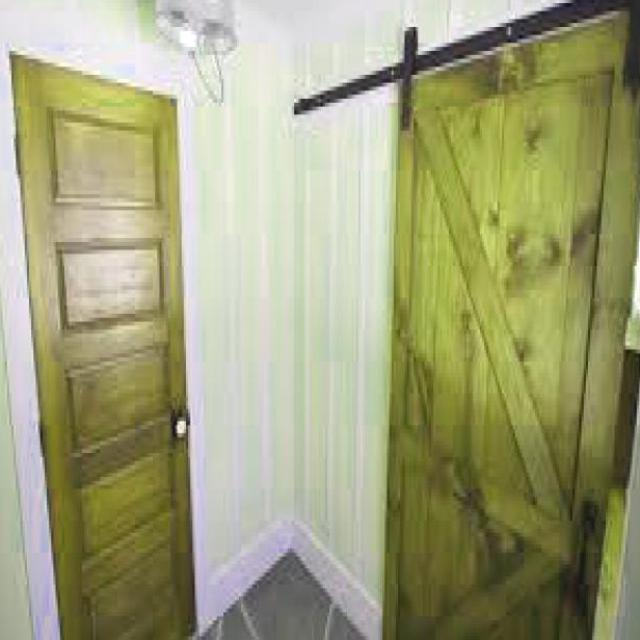door: (10, 51, 194, 638)
